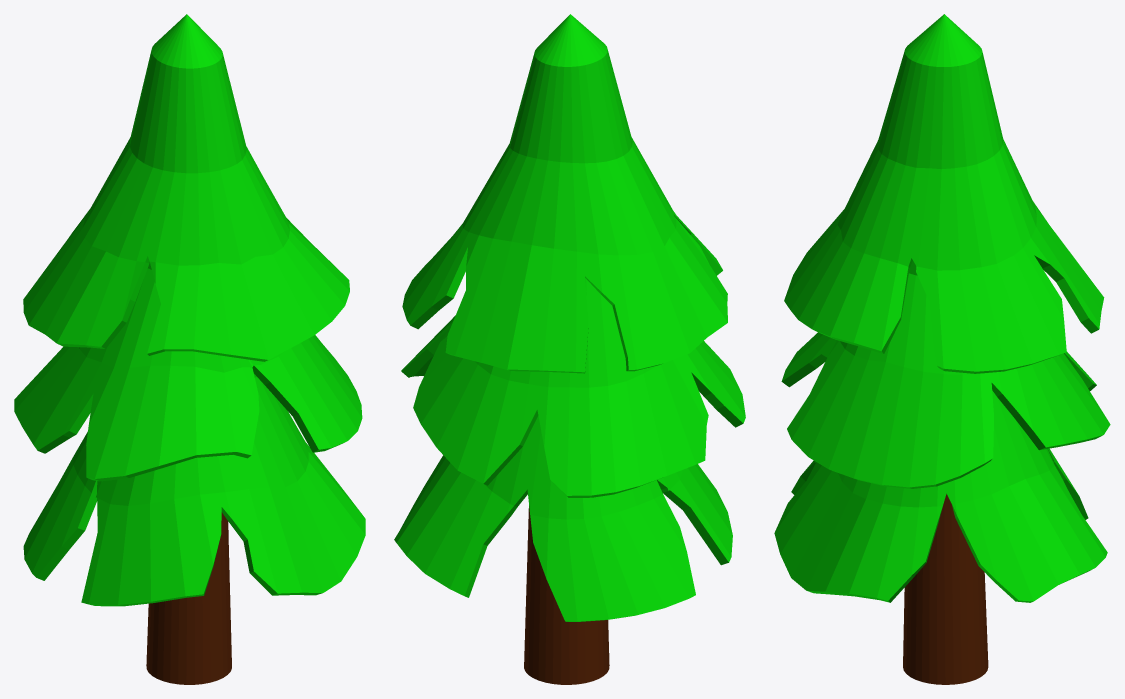
Rendered from tree.glb.
3 views of the same model, side by side, from view 1: azimuth 30°, elevation 25°; view 2: azimuth 150°, elevation 25°; view 3: azimuth 270°, elevation 25° (orthographic).
Parts seen in each view (by area): view 1: Cylinder; view 2: Cylinder; view 3: Cylinder.
Boxes of the visible parts, x1,y1,x2,y2 form: Cylinder: (14,14,365,684); Cylinder: (394,14,745,684); Cylinder: (774,14,1110,684).
Bounding box in the file's own units: 2.07 × 4.31 × 2.01.
